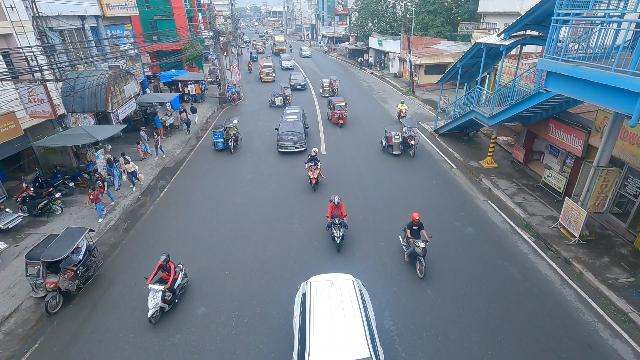car: (288, 72, 308, 92), (278, 53, 296, 70), (299, 45, 313, 59)
jeepney: (256, 58, 277, 83), (251, 41, 265, 54)
motorcycle: (143, 252, 190, 327), (396, 207, 435, 278), (323, 188, 351, 256), (304, 150, 324, 193), (396, 98, 408, 125), (261, 39, 267, 49), (248, 59, 252, 73), (289, 44, 293, 53), (246, 43, 250, 51)
truck: (270, 36, 287, 56)
van: (272, 106, 309, 157)
